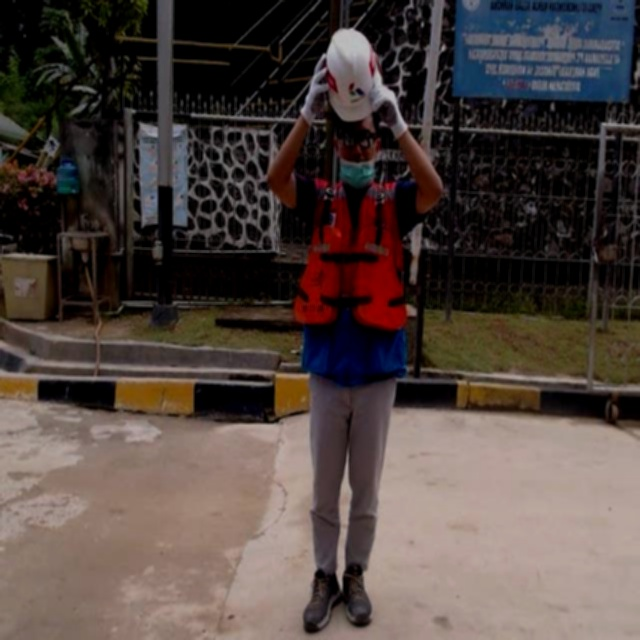boots: (299, 566, 340, 633), (267, 559, 300, 626)
gloves: (298, 54, 340, 126), (232, 80, 268, 136)
helmet: (260, 28, 316, 120)
vest: (230, 178, 343, 373)
